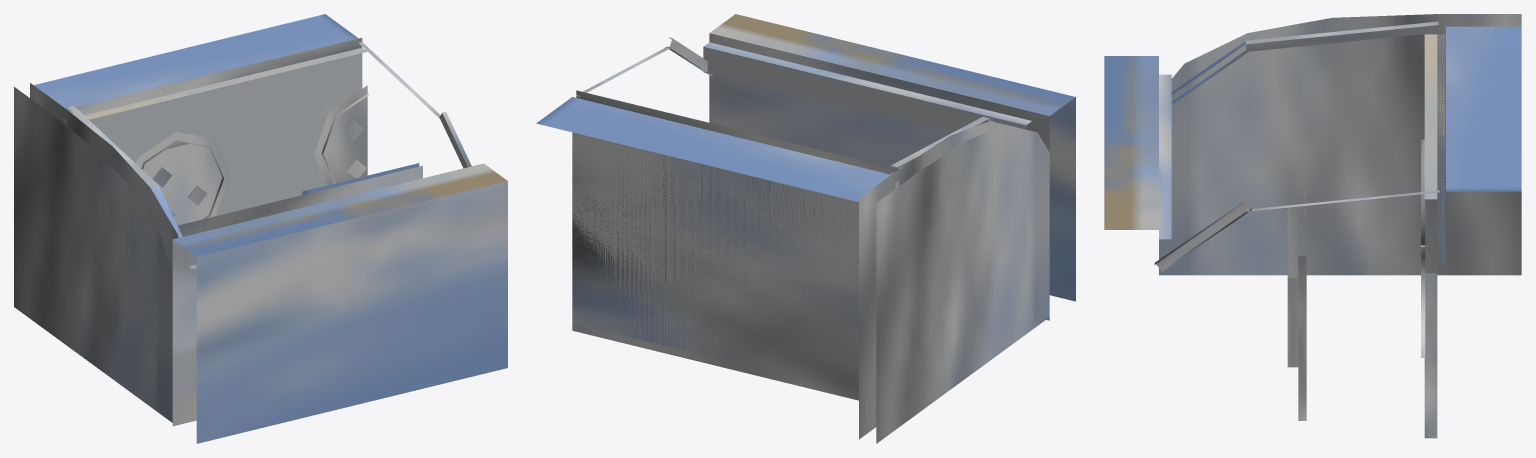
The model's file is section-2.obj.
3 renders of one model, left to right at view 1: azimuth 30°, elevation 25°; view 2: azimuth 150°, elevation 25°; view 3: azimuth 270°, elevation 25°, orthographic. The views are drawn at different scales.
Size of the model in its own units: 0.975 by 0.6827 by 0.99.
